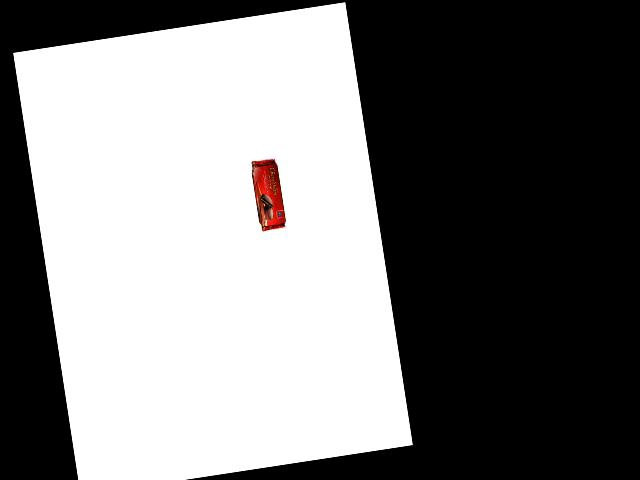chocolate: (243, 157, 287, 234)
